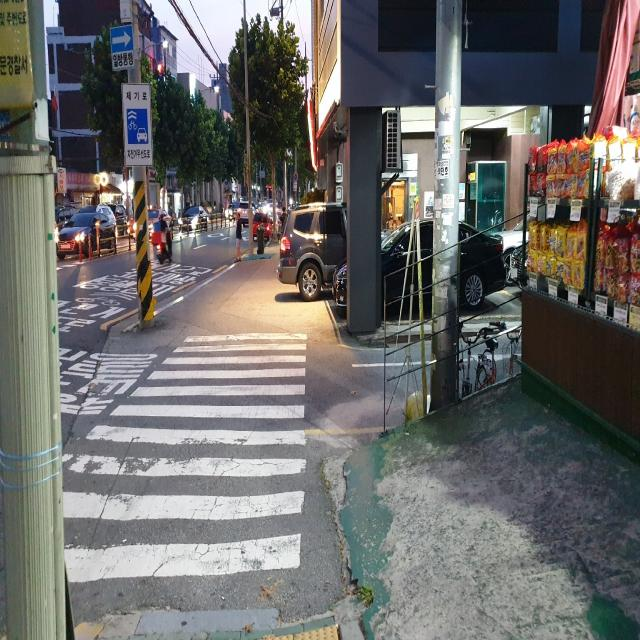횡단보도: (61, 333, 306, 582)
